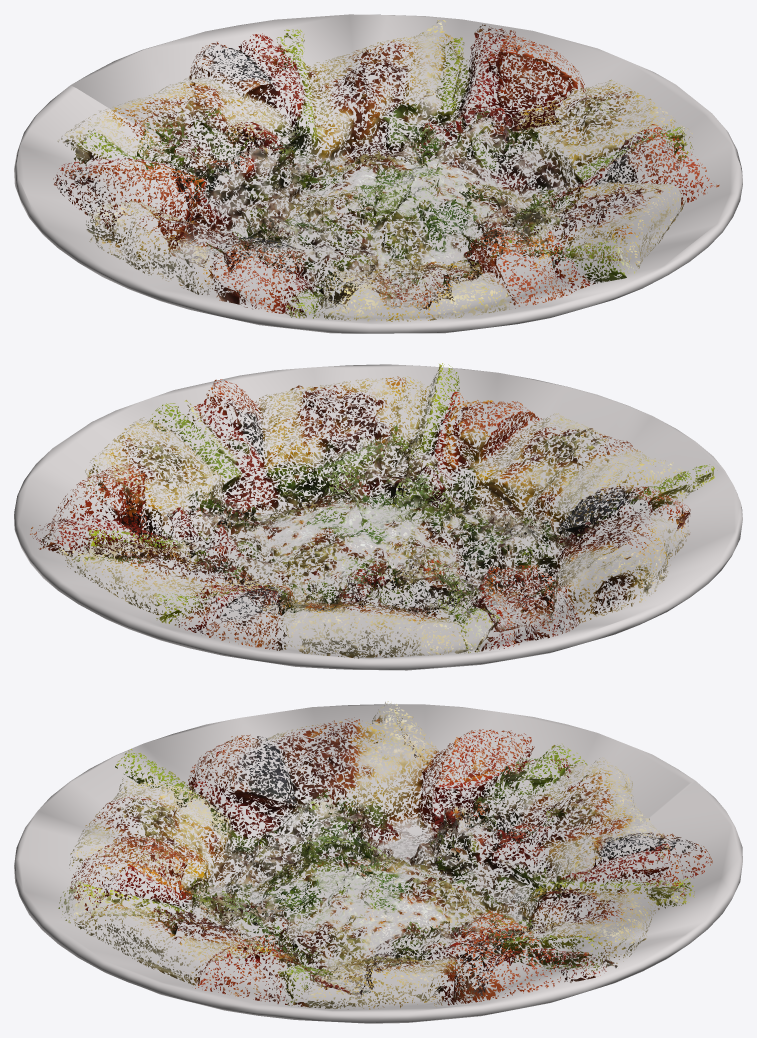
The model's file is canastas-patacon.glb.
3 views of the same model, one above another, from view 1: azimuth 30°, elevation 25°; view 2: azimuth 150°, elevation 25°; view 3: azimuth 270°, elevation 25° (orthographic).
Parts seen in each view (by area): view 1: parte0, parte15, parte17, parte16, parte14, parte18, parte4, parte3, parte1, parte2, parte5, parte19 (+9 smaller); view 2: parte0, parte18, parte16, parte17, parte15, parte14, parte19, parte2, parte1, parte4, parte3, parte6 (+9 smaller); view 3: parte0, parte15, parte17, parte18, parte16, parte14, parte4, parte3, parte19, parte1, parte2, parte5 (+9 smaller).
Part boxes in pixels (x1,y1,x2,y2): parte0: [14, 14, 742, 333]; parte15: [54, 20, 716, 320]; parte17: [57, 26, 709, 318]; parte16: [57, 25, 703, 320]; parte14: [56, 22, 692, 320]; parte18: [66, 24, 696, 321]; parte4: [62, 25, 711, 320]; parte3: [60, 28, 698, 320]; parte1: [64, 29, 703, 321]; parte2: [66, 21, 705, 320]; parte5: [57, 30, 706, 320]; parte19: [55, 26, 719, 318]; parte0: [14, 364, 742, 670]; parte18: [50, 375, 714, 655]; parte16: [44, 364, 714, 657]; parte17: [58, 371, 710, 657]; parte15: [40, 376, 703, 657]; parte14: [36, 377, 711, 658]; parte19: [38, 364, 713, 657]; parte2: [34, 371, 706, 655]; parte1: [30, 363, 704, 655]; parte4: [33, 368, 700, 655]; parte3: [40, 371, 710, 655]; parte6: [38, 365, 707, 655]; parte0: [14, 704, 742, 1023]; parte15: [65, 706, 710, 1009]; parte17: [77, 705, 682, 1008]; parte18: [71, 703, 690, 1008]; parte16: [71, 715, 696, 1008]; parte14: [64, 721, 708, 1005]; parte4: [68, 701, 696, 1006]; parte3: [62, 705, 701, 1005]; parte19: [58, 707, 701, 1008]; parte1: [65, 704, 704, 1009]; parte2: [60, 709, 712, 1005]; parte5: [63, 711, 710, 1005].
Bounding box in the file's own units: 0.7332 × 0.1261 × 0.7329.
Materials: 2 (1 with a texture image).
